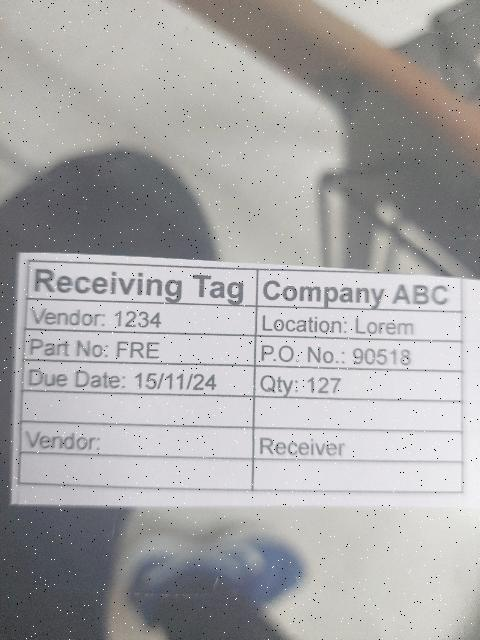PO no: (254, 335, 464, 373)
part no: (22, 327, 254, 366)
qty: (252, 366, 463, 401)
tags: (10, 253, 467, 513)
